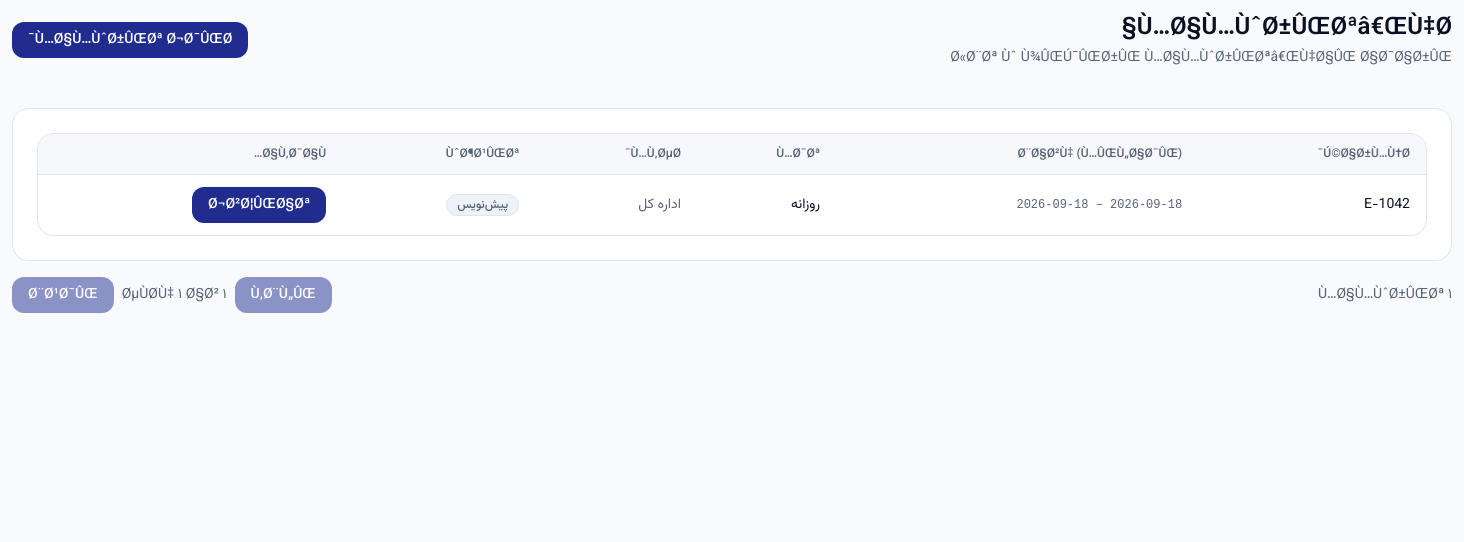
Test: HrMissionView › offers the right acts for DRAFT
The width and height of the screenshot is (1464, 542).
Click the button with test id "hr-mission-open-mis-1". click: (259, 205)
box: [192, 187, 326, 223]
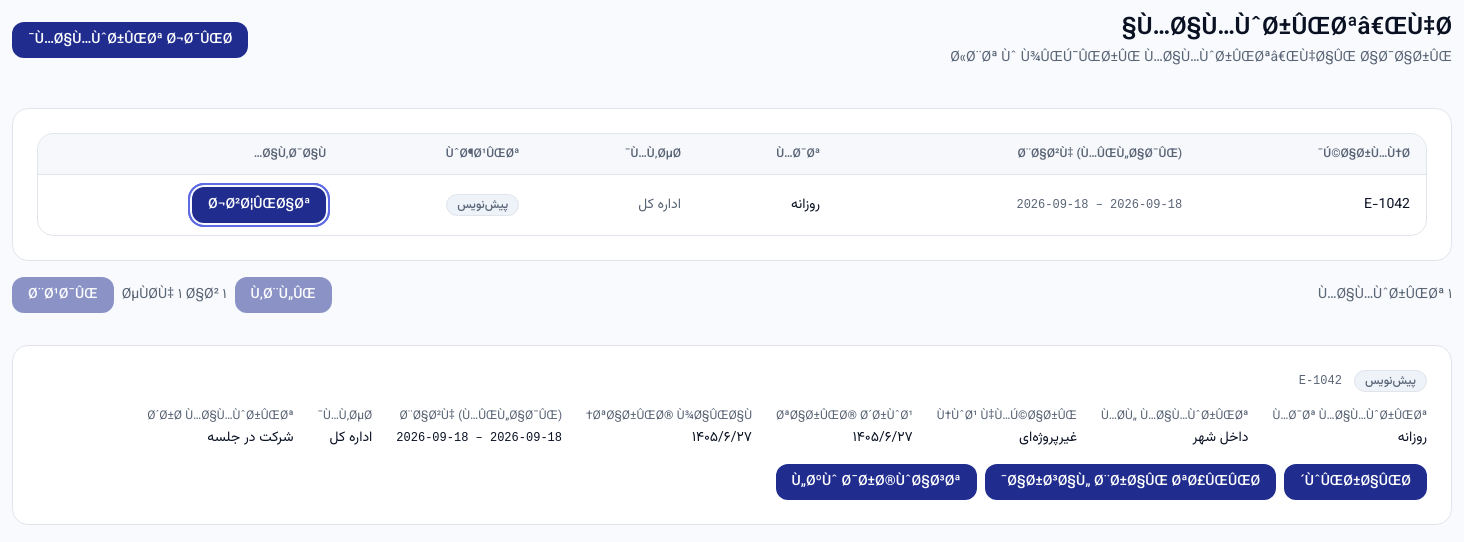
Result: the element with test id "hr-mission-detail-mis-1" is shown at [12, 345, 1452, 525]
